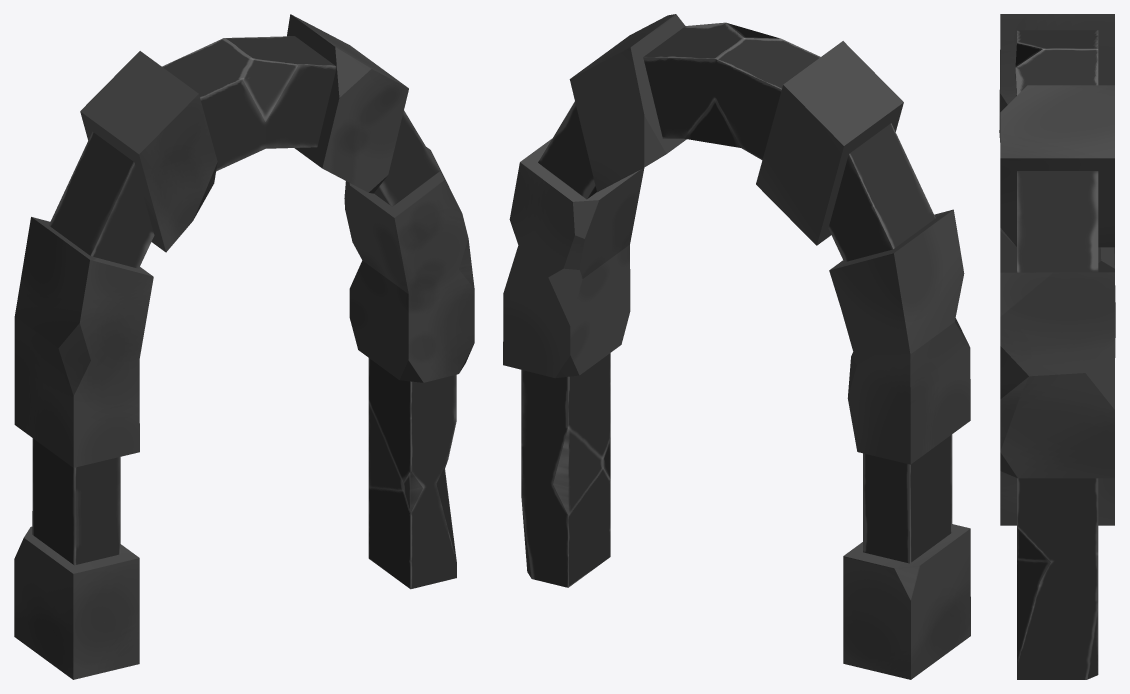
File: Portal_LOD0.fbx
The picture shows the model from 3 angles, left to right: view 1: azimuth 30°, elevation 25°; view 2: azimuth 150°, elevation 25°; view 3: azimuth 270°, elevation 25°; orthographic projection. The views are drawn at different scales.
Visible parts, largest first — view 1: Portal_LOD0; view 2: Portal_LOD0; view 3: Portal_LOD0.
Part boxes in pixels (x1,y1,x2,y2): Portal_LOD0: (14, 14, 474, 679); Portal_LOD0: (503, 14, 970, 679); Portal_LOD0: (999, 14, 1115, 679).
Size of the model in its own units: 2.82 by 3.67 by 0.7134.
2 materials, 2 textured.
